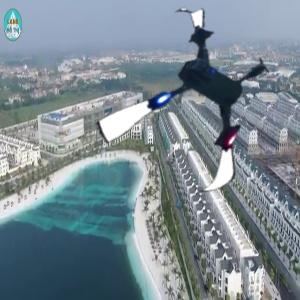drone: (99, 13, 290, 204)
